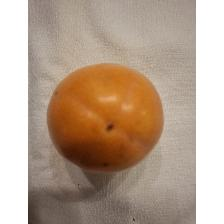Kaki: (46, 61, 166, 177)
